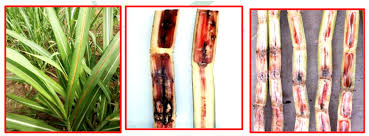Red-Rot: (67, 34, 118, 122), (253, 11, 282, 127), (191, 9, 219, 129), (151, 10, 177, 127), (312, 10, 334, 127), (63, 11, 88, 113), (336, 11, 357, 126), (292, 15, 306, 128)
